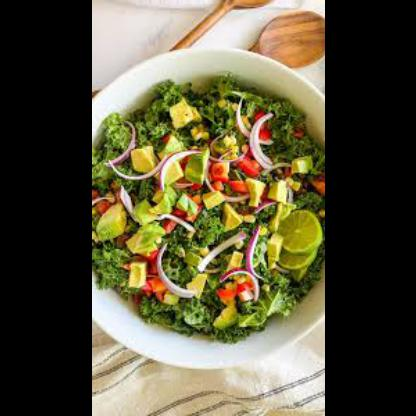salad: (93, 74, 325, 342)
